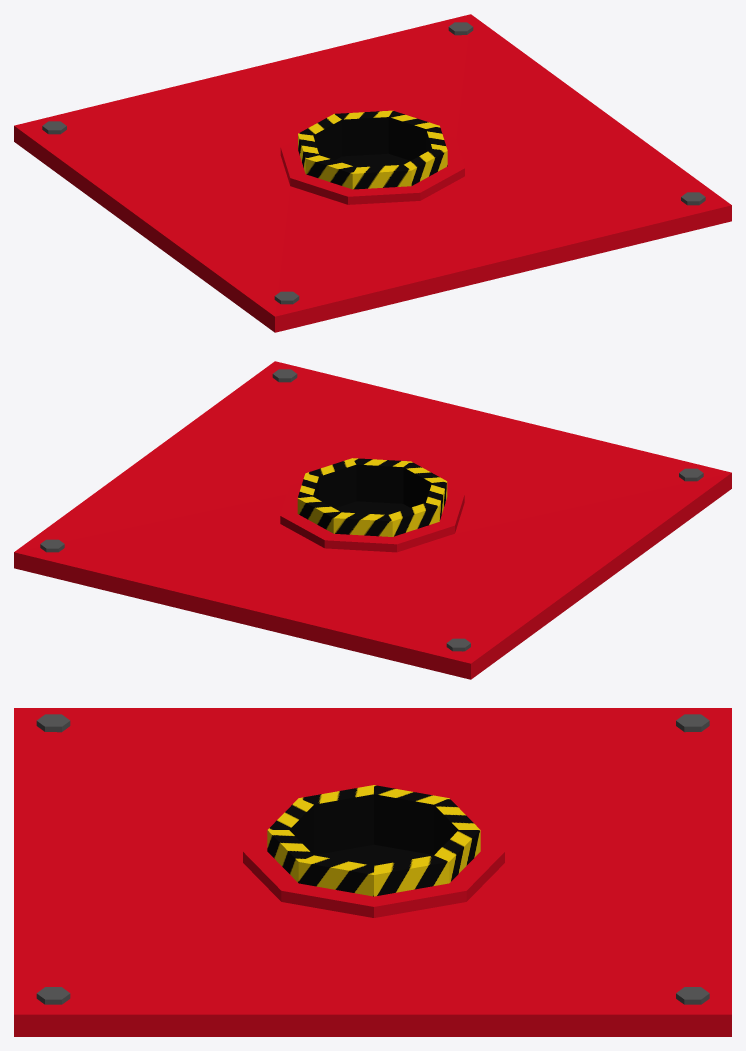
Rendered from Pembuangan Air Kecil.fbx.
The picture shows the model from 3 angles, top to bottom: view 1: azimuth 30°, elevation 25°; view 2: azimuth 150°, elevation 25°; view 3: azimuth 270°, elevation 25°; orthographic projection. The views are drawn at different scales.
Visible parts, largest first — view 1: Selokan Kecil; view 2: Selokan Kecil; view 3: Selokan Kecil.
Part boxes in pixels (x1,y1,x2,y2): Selokan Kecil: (14, 14, 731, 332); Selokan Kecil: (14, 361, 731, 679); Selokan Kecil: (14, 708, 731, 1036).
Bounding box in the file's own units: 799 × 65.14 × 790.
